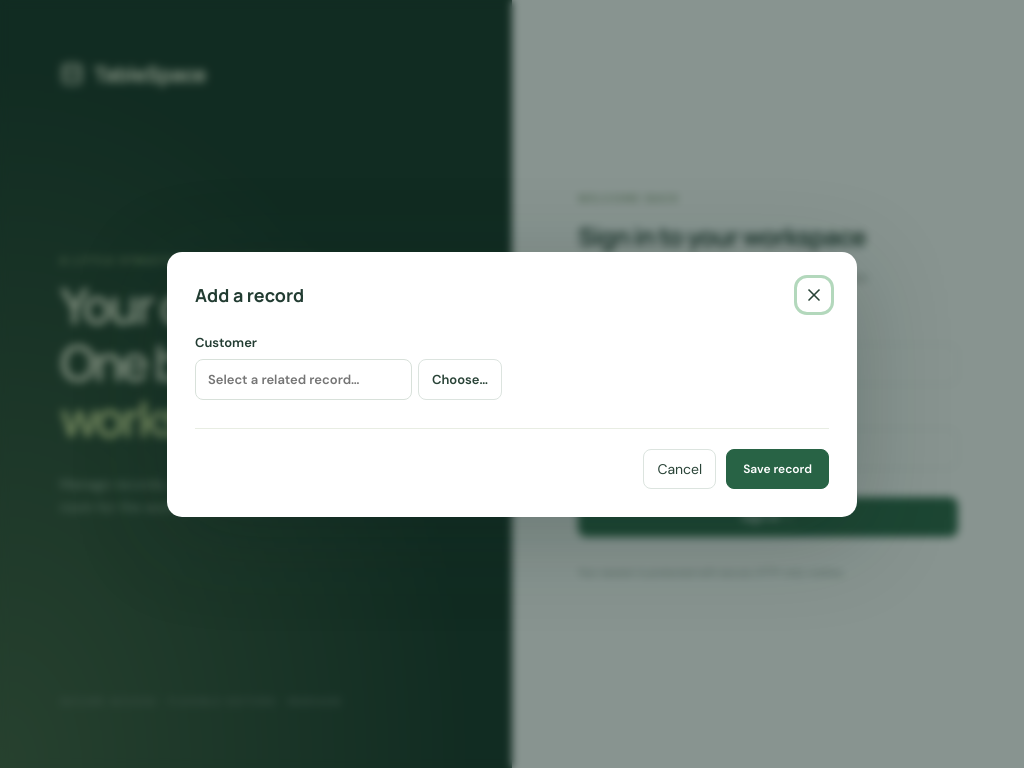
Scenario: Lookup editor validation › requires selection for a required relation instead of submitting a blank key
The image size is (1024, 768).
Click the button "Save record" at coordinates (778, 468), box left=726, top=448, right=829, bottom=488
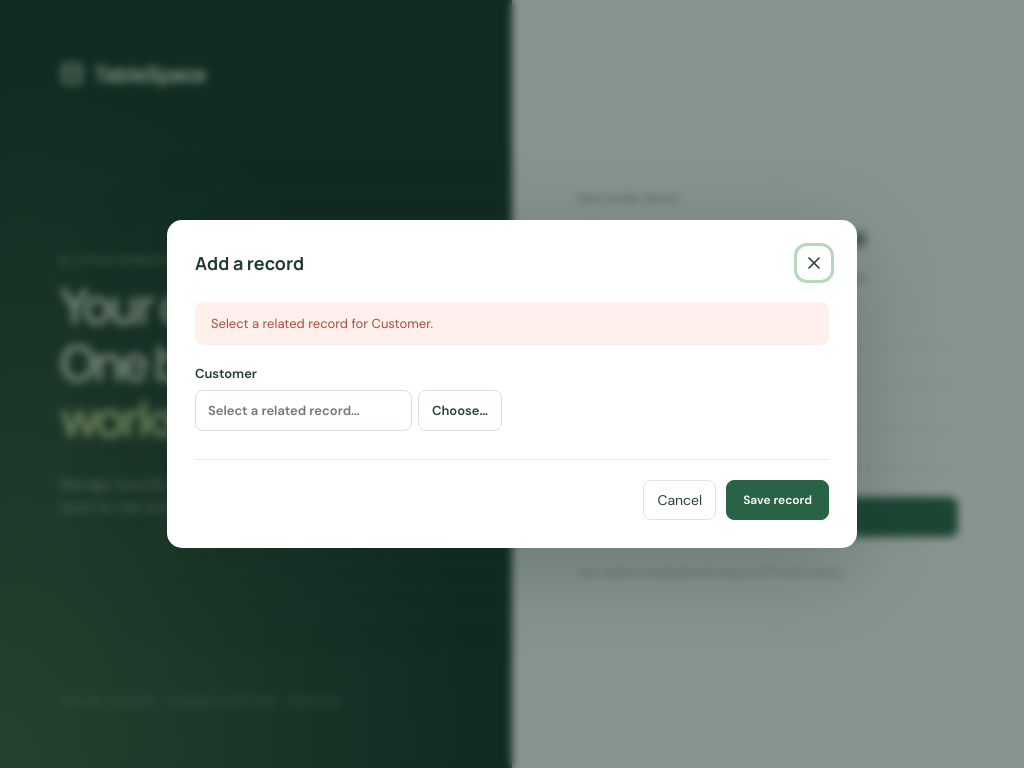
Check: the message reads "Select a related record for Customer.", box left=211, top=315, right=433, bottom=332
